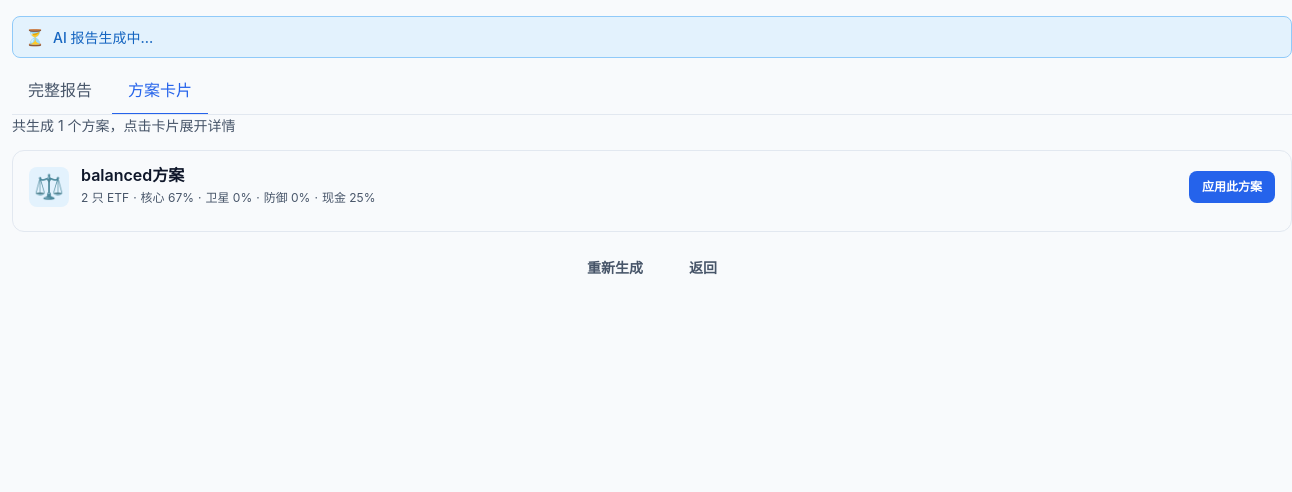
it: DesignResult P2-6 因子分列 › 持仓表含「因子分」列头 + tooltip 注明口径（负向：列头含「综合信号」 → FAIL）
Step 1. Click the element with class "plan-card" → (652, 191), box [12,150,1291,232]
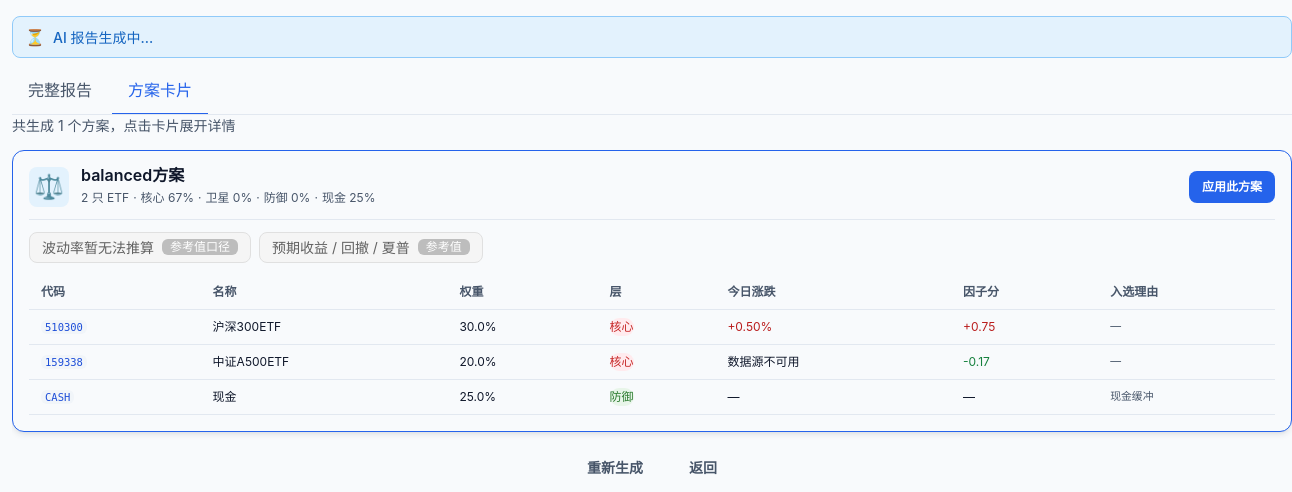
Expected: the text with class "factor-col-head" reads "因子分", [963,284,999,299]
